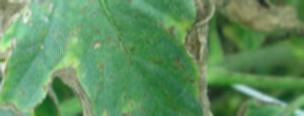Tomato leaf bacterial spot: (0, 0, 255, 116)
